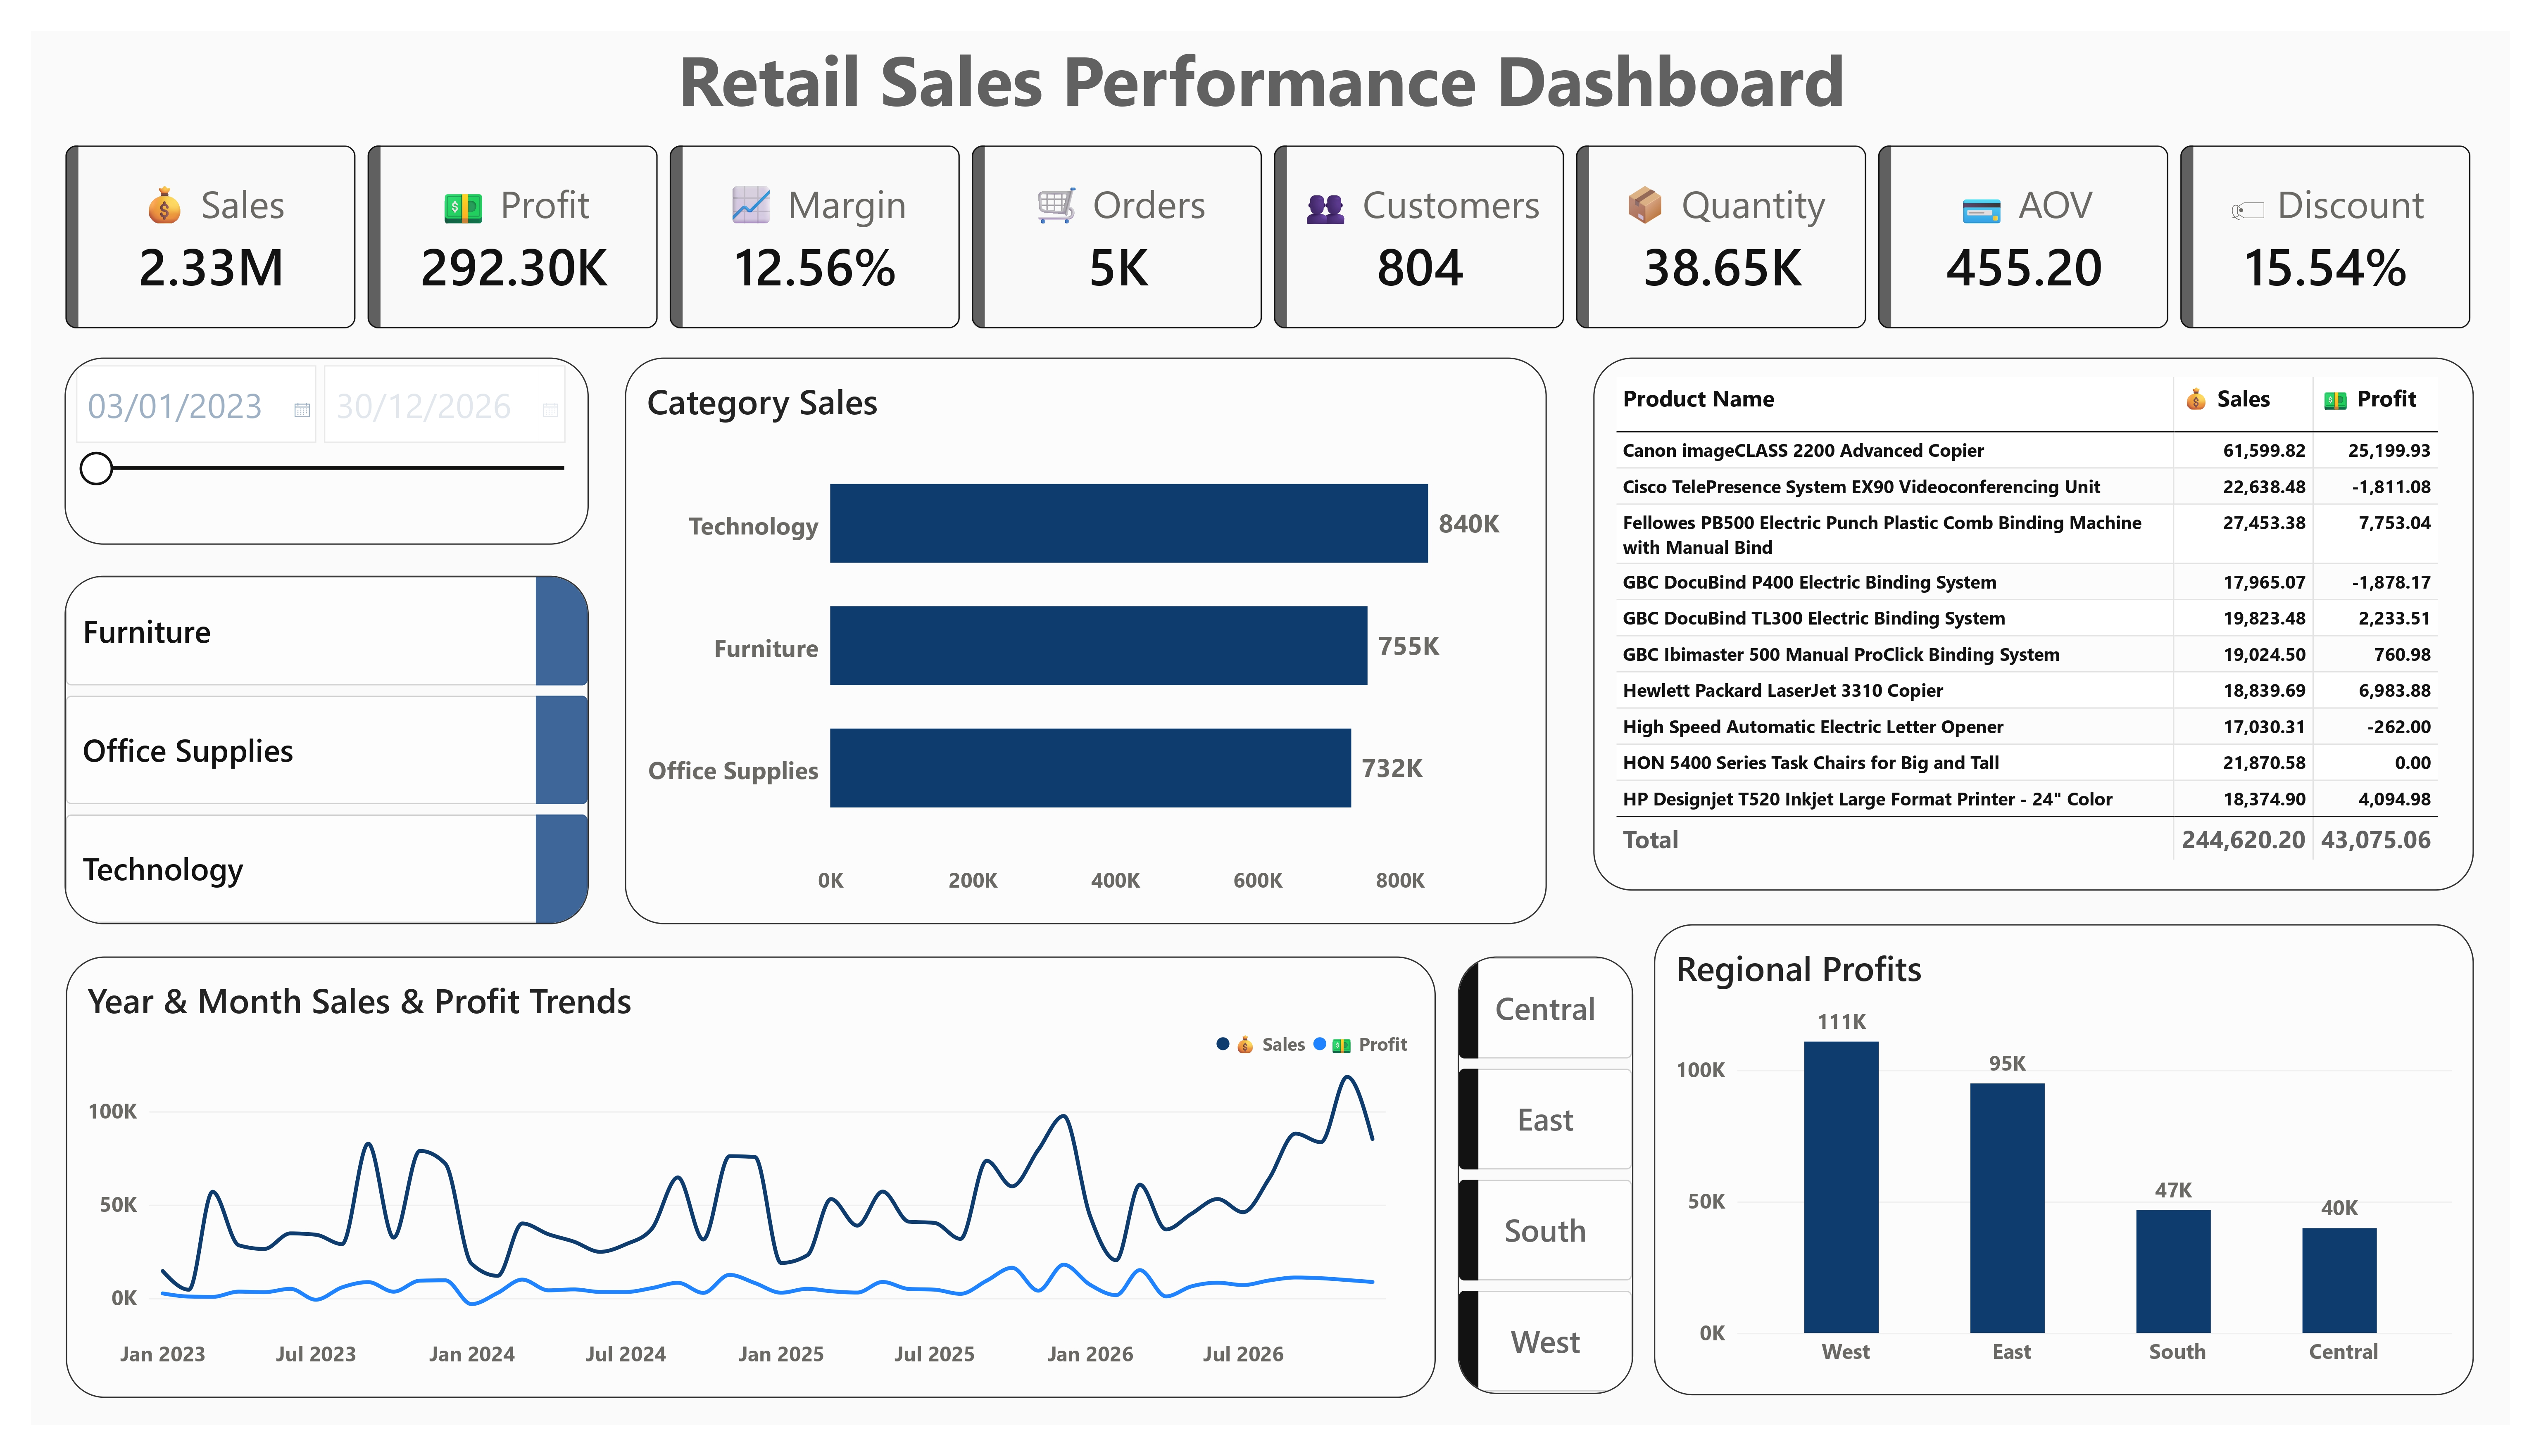

Layout of this report page (visuals, bound fields, positions):
{"tool":"powerbi","page":{"name":"Retail Sales Performance Dashboard","canvas":[1920,1080],"ordinal":0},"visuals":[{"type":"cardVisual","title":"KPIs","fields":{"Data":["Orders$.Total Sales","Orders$.Total Profit","Orders$.Profit Margin","Orders$.Total Orders","Orders$.Total Customers","Orders$.Total Quantity","Orders$.Average Order Value","Orders$.Average Discount"]},"box":[26.2,88.3,1865.8,143.2],"z":0},{"type":"textbox","box":[432.4,0,1171.9,87.4],"z":1000},{"type":"lineChart","title":"Year & Month Sales & Profit Trends","fields":{"Category":["Orders$.Order Date.Variation.Date Hierarchy.Year","Orders$.Order Date.Variation.Date Hierarchy.Month"],"Y":["Orders$.Total Sales","Orders$.Total Profit"]},"box":[26.8,717.1,1061,341.5],"z":2000},{"type":"clusteredBarChart","title":"Category Sales","fields":{"Category":["Orders$.Category"],"Y":["Orders$.Total Sales"]},"box":[460.5,252.9,713.4,439],"z":3000},{"type":"columnChart","title":"Regional Profits","fields":{"Category":["Orders$.Region"],"Y":["Orders$.Total Profit"]},"box":[1257.4,691.9,634.7,365],"z":4000},{"type":"tableEx","fields":{"Values":["Orders$.Product Name","Orders$.Total Sales","Orders$.Total Profit"]},"box":[1209.7,252.9,682.4,412.8],"z":5000},{"type":"slicer","fields":{"Values":["Orders$.Order Date"]},"box":[26.2,252.9,405.6,145.5],"z":6000},{"type":"advancedSlicerVisual","fields":{"Values":["Orders$.Region"]},"box":[1104.9,717.1,136.6,339],"z":7000},{"type":"slicer","fields":{"Values":["Orders$.Category"]},"box":[26.2,422.3,405.6,269.6],"z":8000}]}

Visuals, with their boxes on the page's 1920x1080 design canvas (x1, y1, x2, y2). These are canvas units, not pixel positions in the 2541x1456 screenshot, which may show the page scaled, cropped or inside an application window:
"KPIs" cardVisual: pyautogui.locateOnScreen(26, 88, 1892, 232)
textbox: pyautogui.locateOnScreen(432, 0, 1604, 87)
"Year & Month Sales & Profit Trends" lineChart: pyautogui.locateOnScreen(27, 717, 1088, 1059)
"Category Sales" clusteredBarChart: pyautogui.locateOnScreen(460, 253, 1174, 692)
"Regional Profits" columnChart: pyautogui.locateOnScreen(1257, 692, 1892, 1057)
tableEx - Orders$.Product Name x Orders$.Total Sales: pyautogui.locateOnScreen(1210, 253, 1892, 666)
slicer - Orders$.Order Date: pyautogui.locateOnScreen(26, 253, 432, 398)
advancedSlicerVisual - Orders$.Region: pyautogui.locateOnScreen(1105, 717, 1242, 1056)
slicer - Orders$.Category: pyautogui.locateOnScreen(26, 422, 432, 692)
